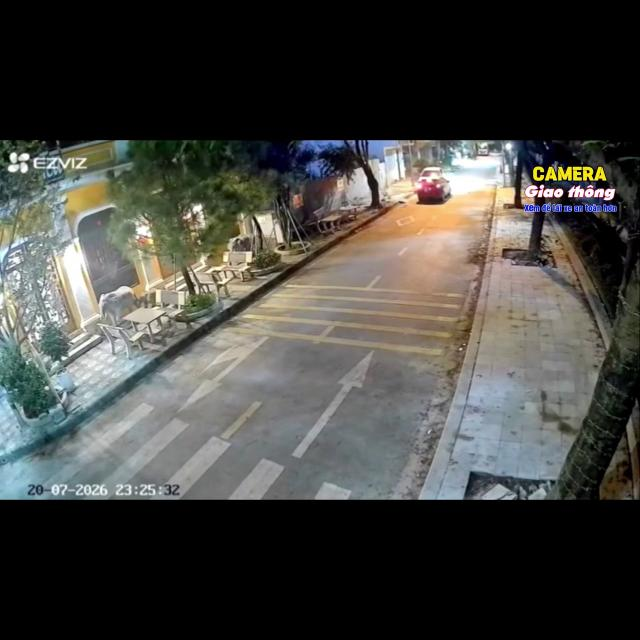car: (419, 183, 451, 204), (422, 165, 443, 181)
